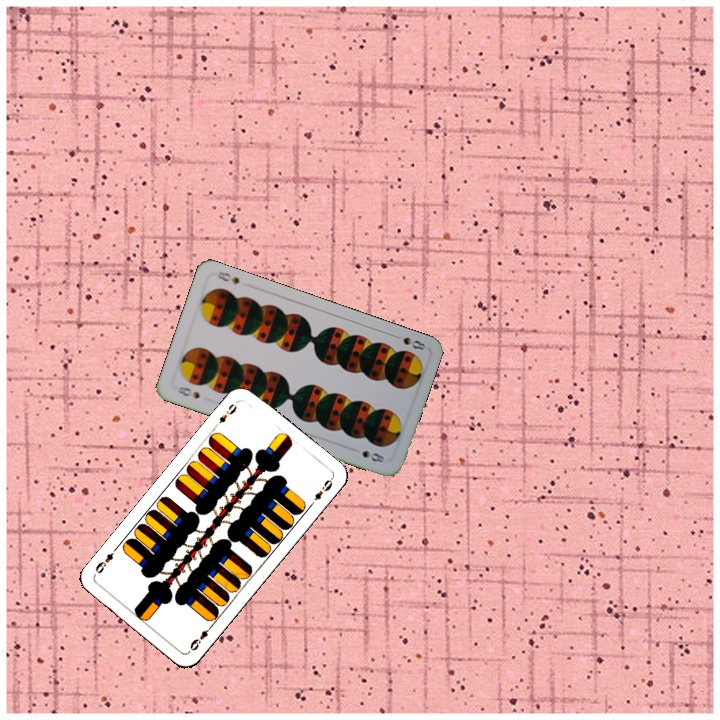E9: (210, 397, 241, 431), (186, 621, 215, 653)
S8: (389, 330, 428, 353), (173, 382, 202, 401)
